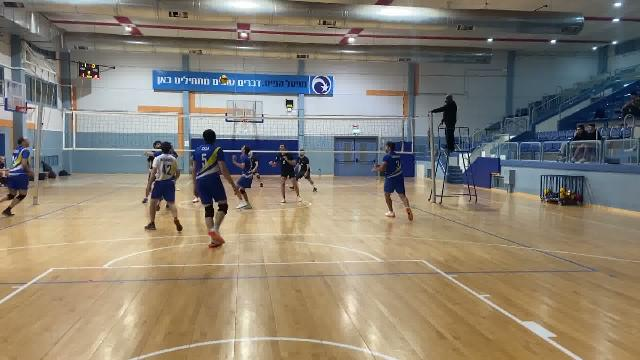ball: (217, 72, 231, 83)
